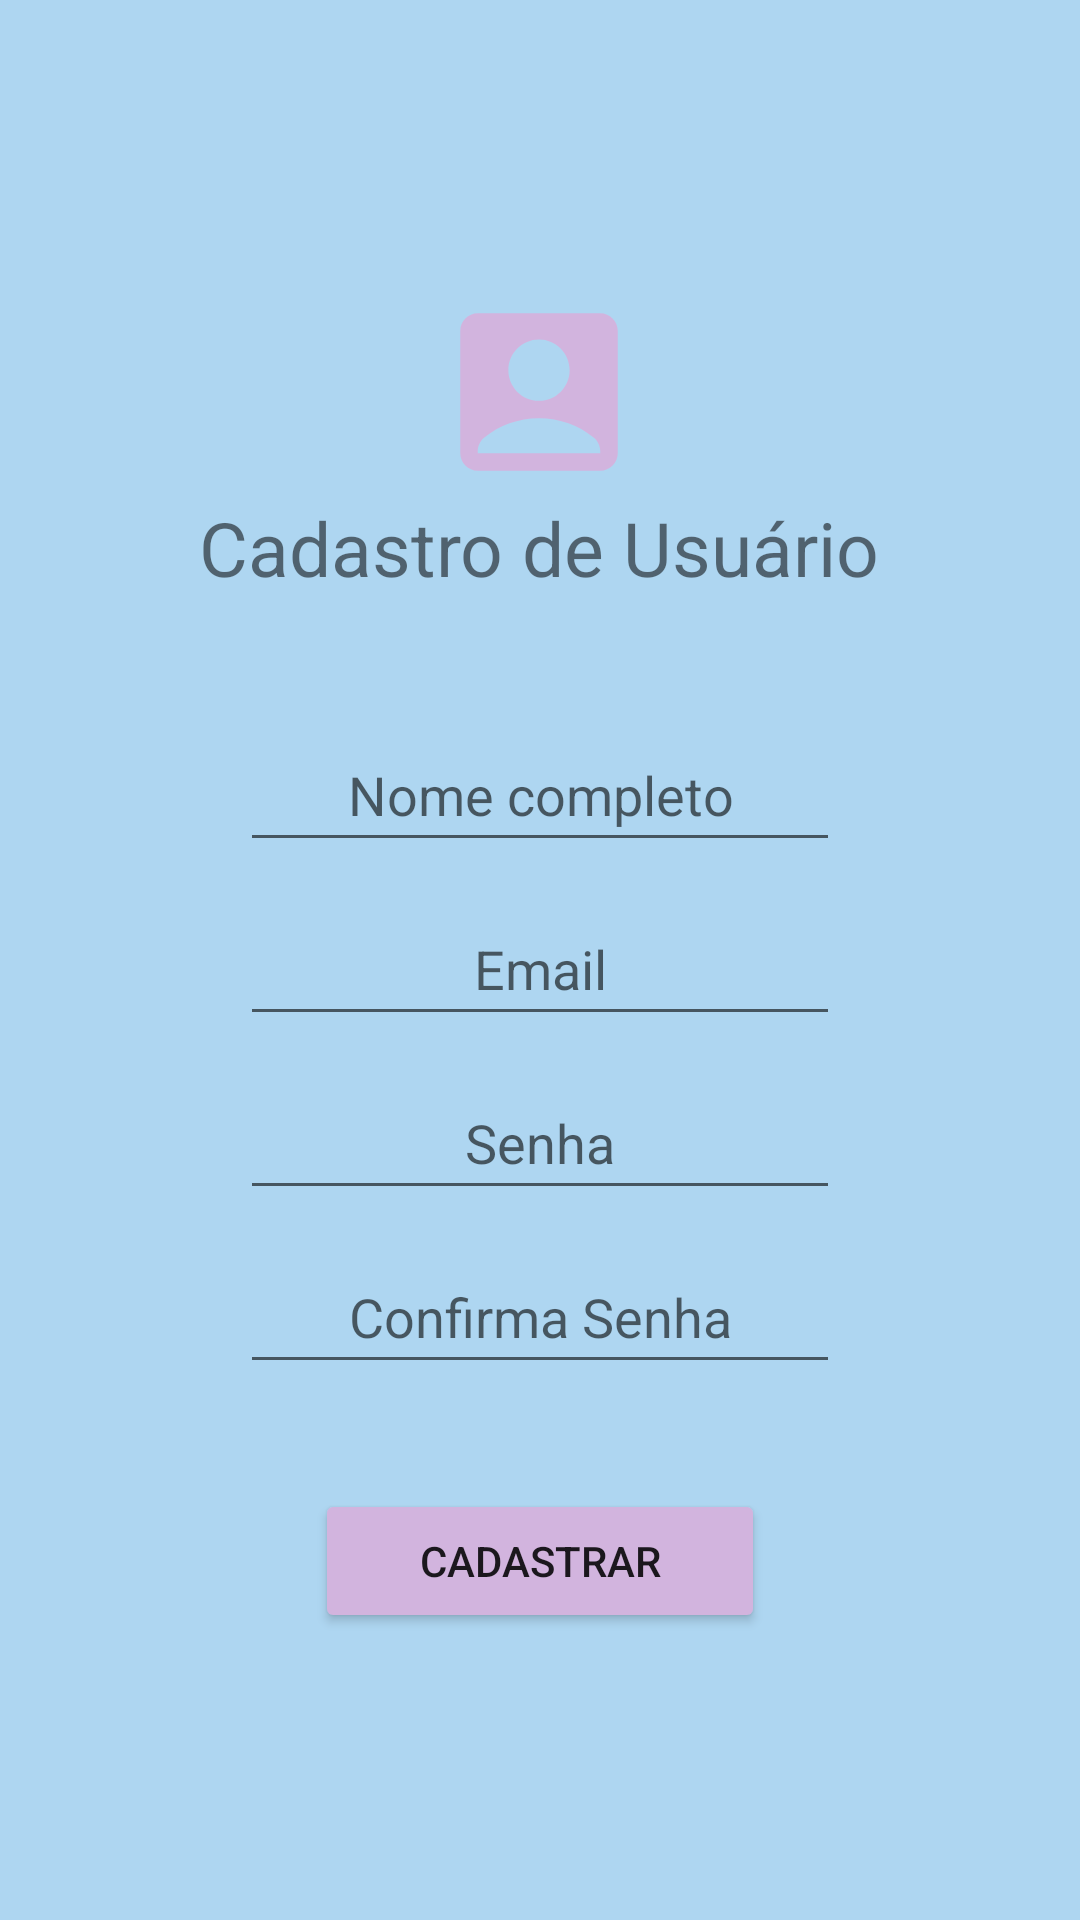

Icon click points for this 1080×1920 phone screenshot, format (x,y):
account box: (539,392)
